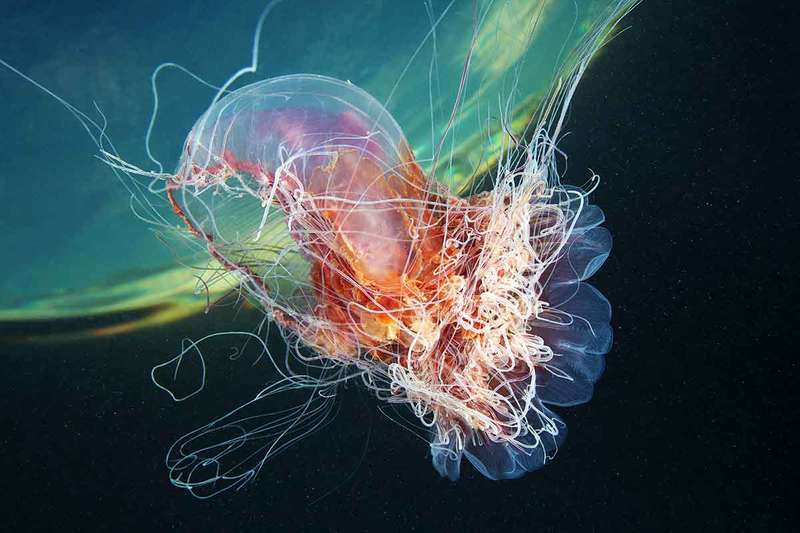jellyfish: (123, 43, 658, 493)
